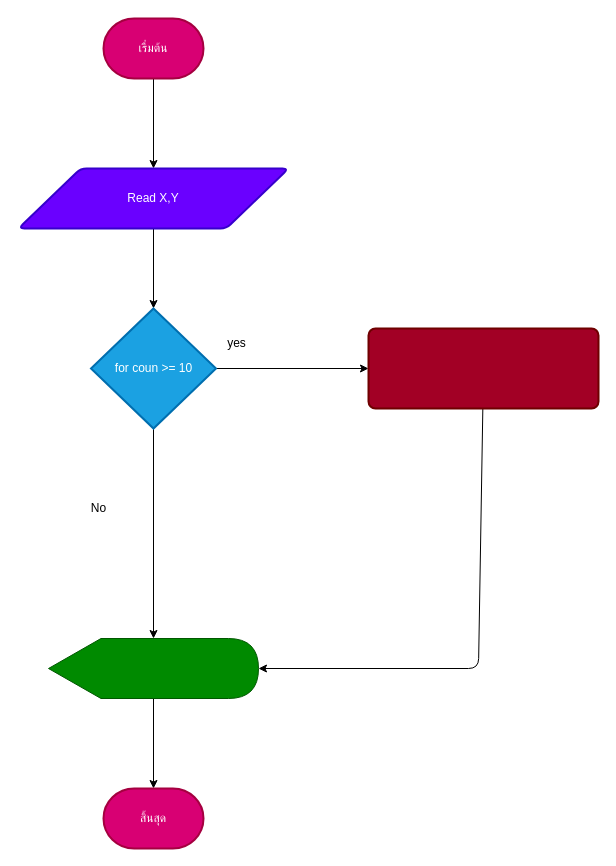
Some shapes in this 616 by 866 pixel diagram are drawn without their labels. The shapes that lost their labels are listed below. From the top down, each one's box as (x1, y1, x2, y2) in pixels, then its label:
(367, 327, 599, 409): Area = (X*Y)/2
(48, 638, 258, 698): Print Area
